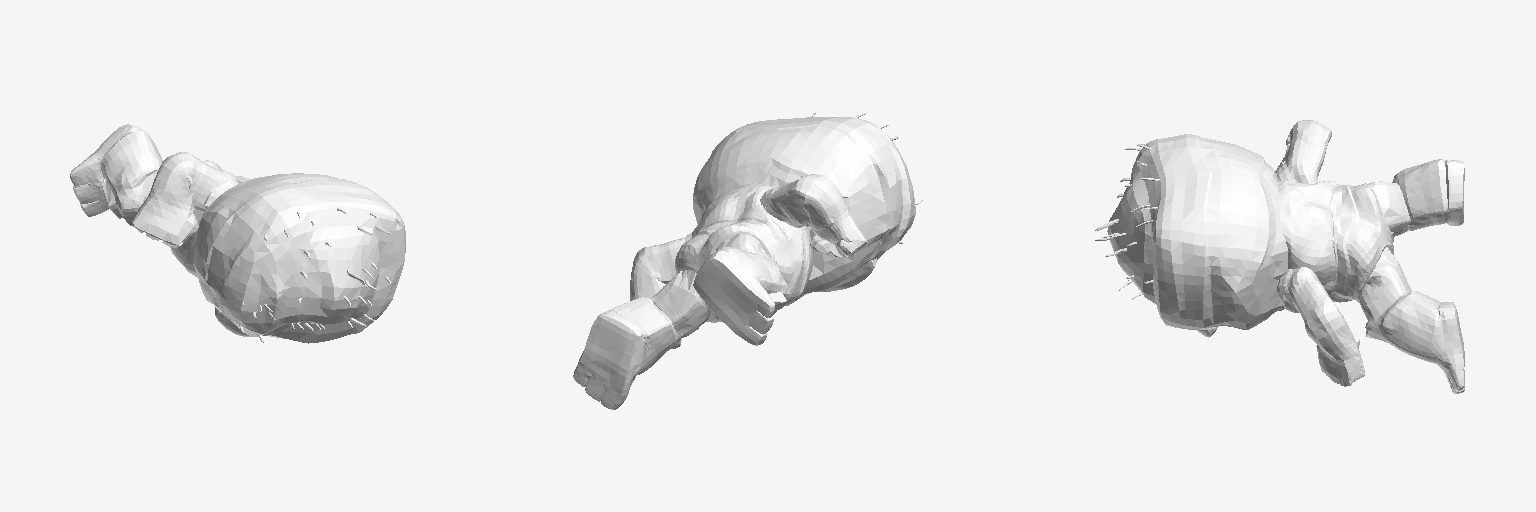
The model's file is fire_guy.obj.
3 renders of one model, left to right at view 1: azimuth 30°, elevation 25°; view 2: azimuth 150°, elevation 25°; view 3: azimuth 270°, elevation 25°, orthographic.
Parts seen in each view (by area): view 1: Object.1; view 2: Object.1; view 3: Object.1.
Part boxes in pixels (bbox=[...]): Object.1: bbox=[70, 124, 405, 343]; Object.1: bbox=[573, 112, 922, 409]; Object.1: bbox=[1095, 120, 1464, 393].
Size of the model in its own units: 64.4 by 58.25 by 93.15.